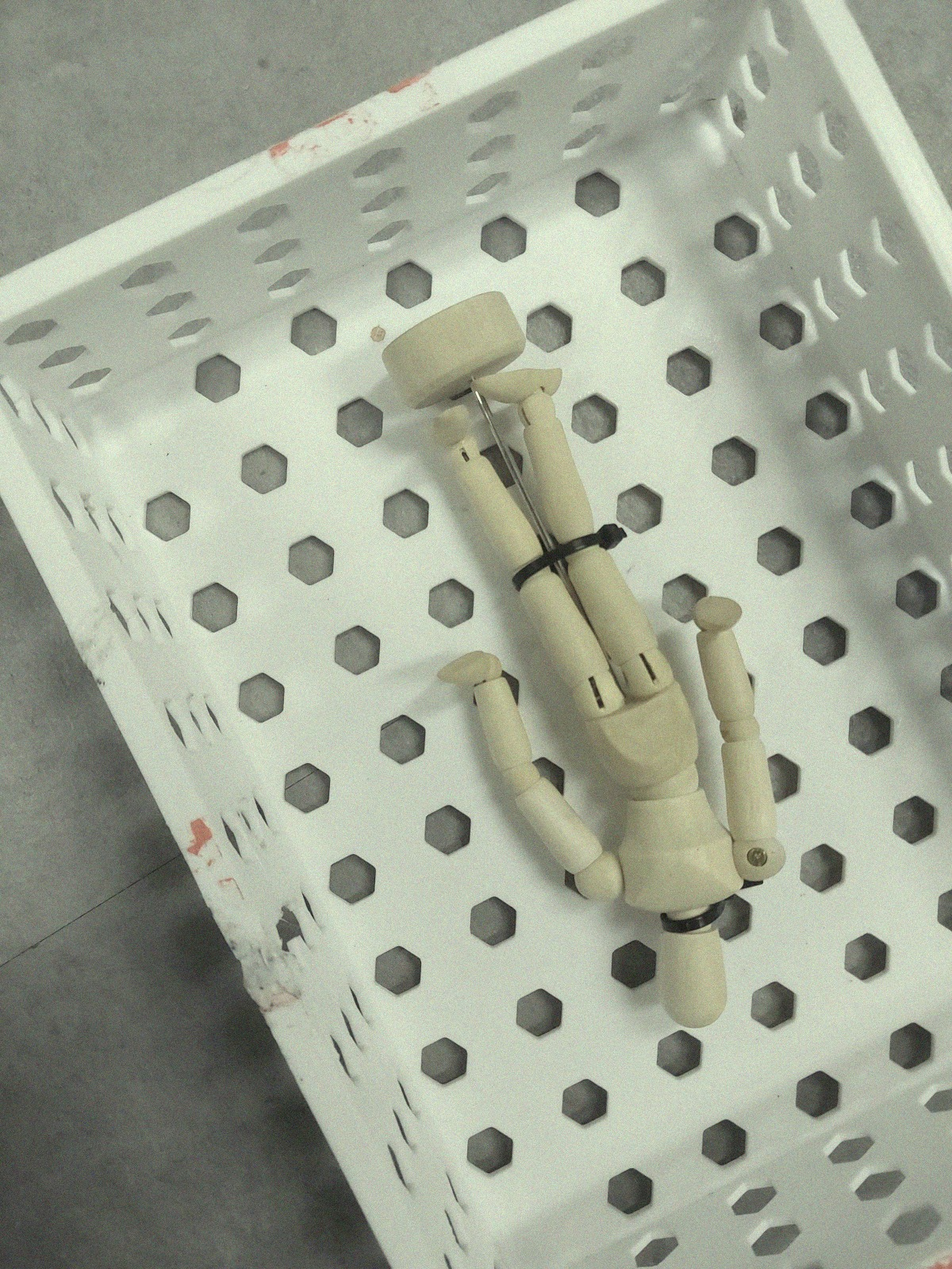mannequin: (375, 286, 790, 1041)
